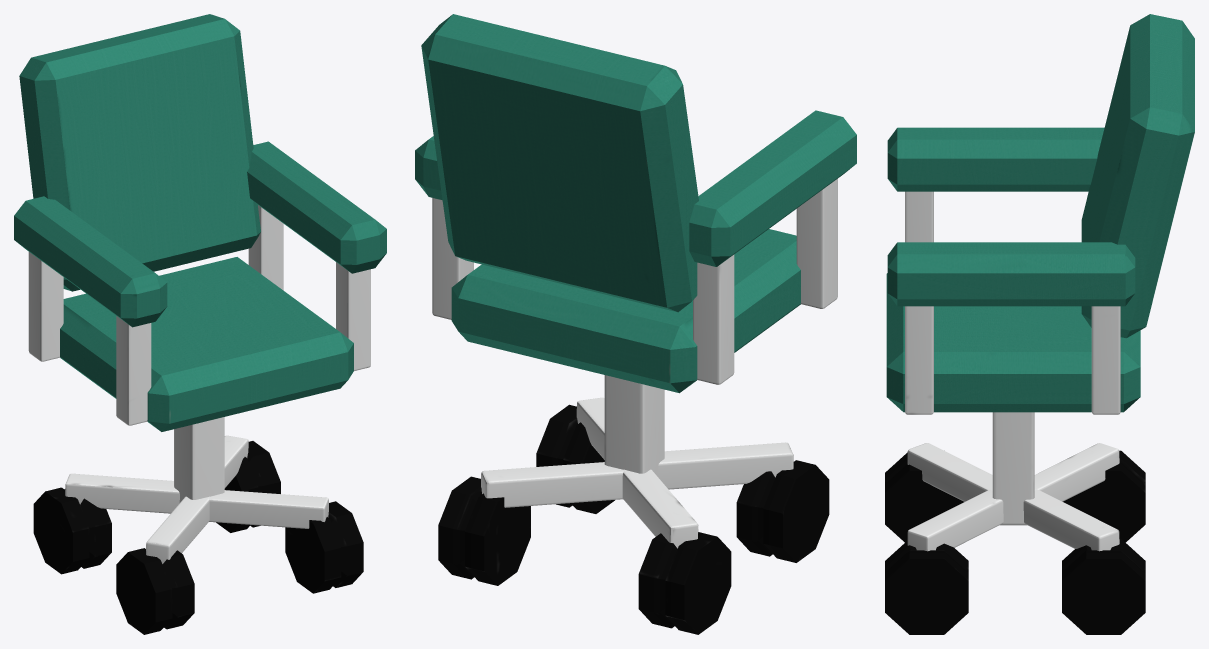
Rendered from officeChair-TEXTURES.glb.
The picture shows the model from 3 angles, left to right: view 1: azimuth 30°, elevation 25°; view 2: azimuth 150°, elevation 25°; view 3: azimuth 270°, elevation 25°; orthographic projection. The views are drawn at different scales.
Visible parts, largest first — view 1: pCube10; view 2: pCube10; view 3: pCube10.
Part boxes in pixels (x1,y1,x2,y2): pCube10: (14,14,386,634); pCube10: (415,14,856,634); pCube10: (885,14,1194,634).
Bounding box in the file's own units: 3.15 × 5.5 × 2.97.
1 material, 1 textured.
